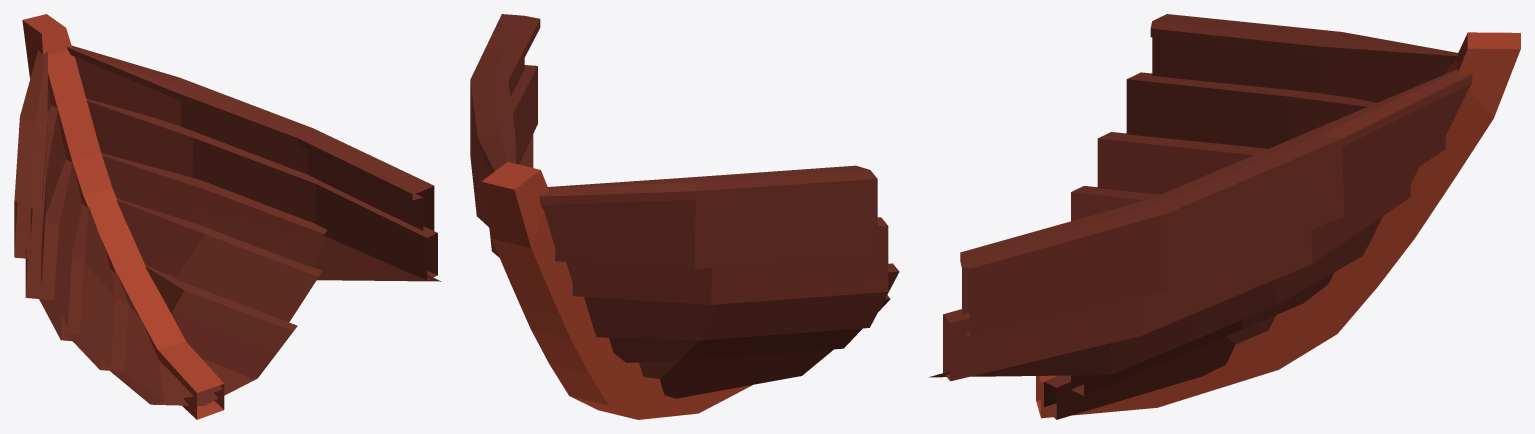
The model's file is BoatPart2.fbx.
3 views of the same model, side by side, from view 1: azimuth 30°, elevation 25°; view 2: azimuth 150°, elevation 25°; view 3: azimuth 270°, elevation 25° (orthographic). The views are drawn at different scales.
Parts seen in each view (by area): view 1: Boat.001; view 2: Boat.001; view 3: Boat.001.
Part boxes in pixels (x1,y1,x2,y2): Boat.001: (14,14,441,419); Boat.001: (470,14,899,419); Boat.001: (929,14,1520,419).
Bounding box in the file's own units: 94.86 × 70.45 × 102.
